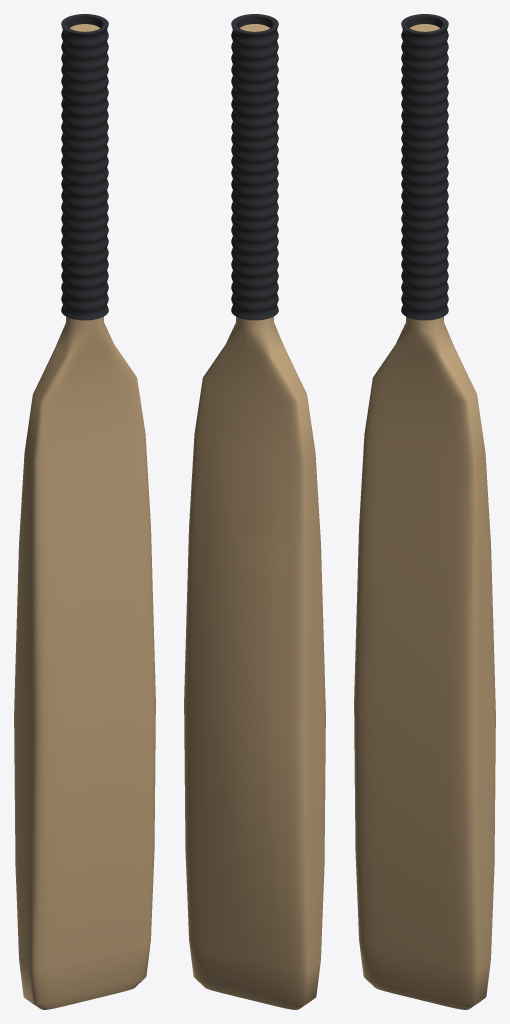
The picture shows the model from 3 angles, left to right: view 1: azimuth 30°, elevation 25°; view 2: azimuth 150°, elevation 25°; view 3: azimuth 330°, elevation 25°; orthographic projection.
Visible parts, largest first — view 1: Flat striking blade with raised rear spine, Closed ribbed rubber grip sleeve; view 2: Flat striking blade with raised rear spine, Closed ribbed rubber grip sleeve; view 3: Flat striking blade with raised rear spine, Closed ribbed rubber grip sleeve.
Boxes of the visible parts, left/top/right/bottom form: Flat striking blade with raised rear spine: left=14, top=24, right=155, bottom=1009; Closed ribbed rubber grip sleeve: left=61, top=14, right=108, bottom=320; Flat striking blade with raised rear spine: left=184, top=24, right=325, bottom=1009; Closed ribbed rubber grip sleeve: left=231, top=14, right=278, bottom=320; Flat striking blade with raised rear spine: left=354, top=24, right=495, bottom=1009; Closed ribbed rubber grip sleeve: left=401, top=14, right=448, bottom=320.
Size of the model in its own units: 0.112 by 0.845 by 0.0558.
